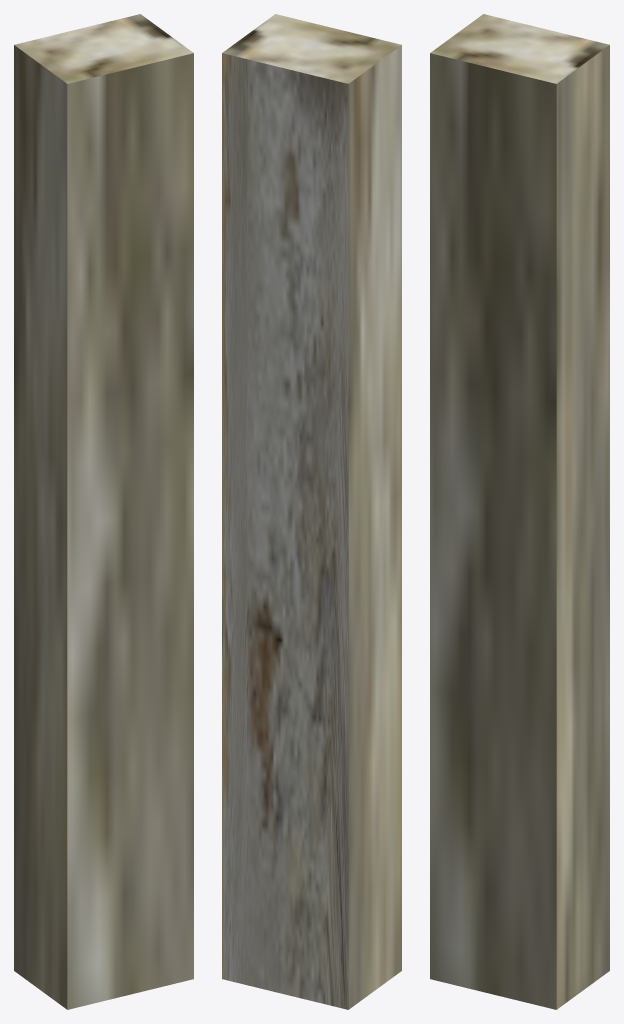
File: Pillar_2.fbx
The picture shows the model from 3 angles, left to right: view 1: azimuth 30°, elevation 25°; view 2: azimuth 150°, elevation 25°; view 3: azimuth 330°, elevation 25°; orthographic projection.
Visible parts, largest first — view 1: Cube; view 2: Cube; view 3: Cube.
Boxes of the visible parts, x1,y1,x2,y2 form: Cube: (14, 14, 193, 1009); Cube: (222, 14, 401, 1009); Cube: (430, 14, 609, 1009).
Bounding box in the file's own units: 28.59 × 200 × 20.93.
